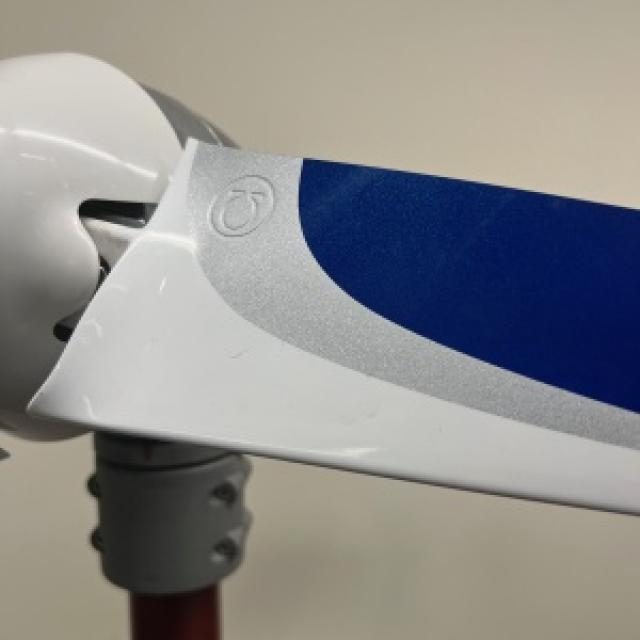healthy: (0, 433, 126, 638)
